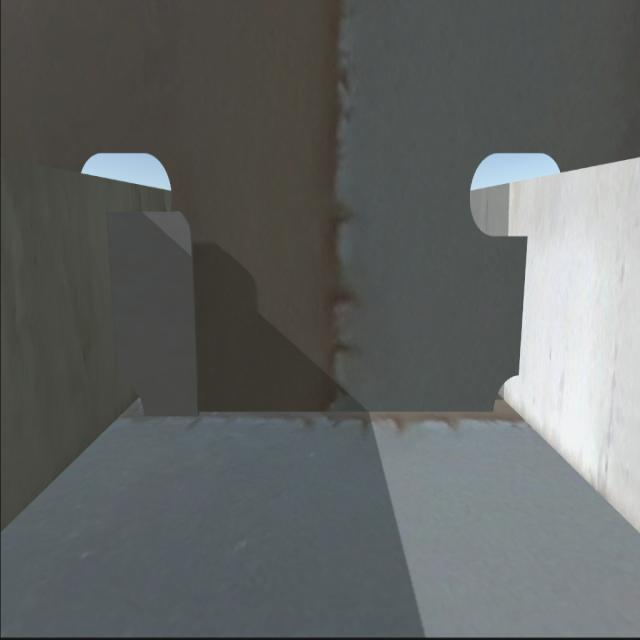fillet_hole: (488, 373, 522, 418), (114, 381, 145, 419)
fillet_yong_jeop_jang: (150, 409, 492, 416)
longi_yong_jeop_jang: (106, 218, 123, 381), (518, 241, 533, 377)
plate_CP05: (111, 207, 198, 417)
